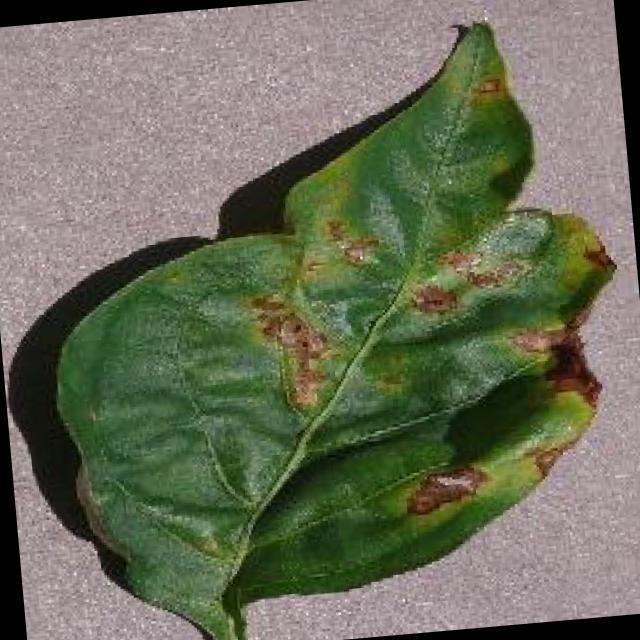Chilli_Bacterial_Spot: (18, 5, 640, 640), (228, 186, 612, 538), (242, 282, 340, 418), (535, 328, 604, 414), (398, 459, 491, 521), (318, 210, 386, 272), (269, 308, 326, 367), (404, 276, 460, 320), (524, 438, 570, 482), (335, 230, 378, 271), (576, 236, 617, 277), (464, 70, 507, 106)
